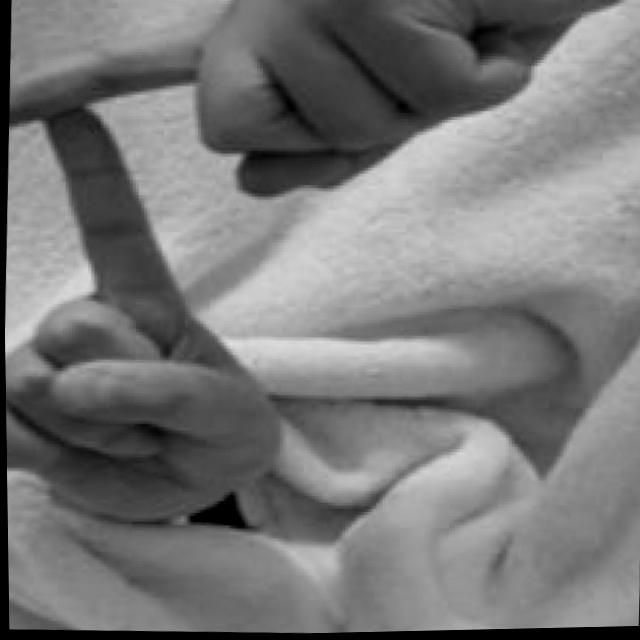T: (0, 0, 631, 552)
